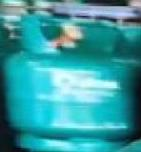cylinder: (1, 0, 141, 152)
